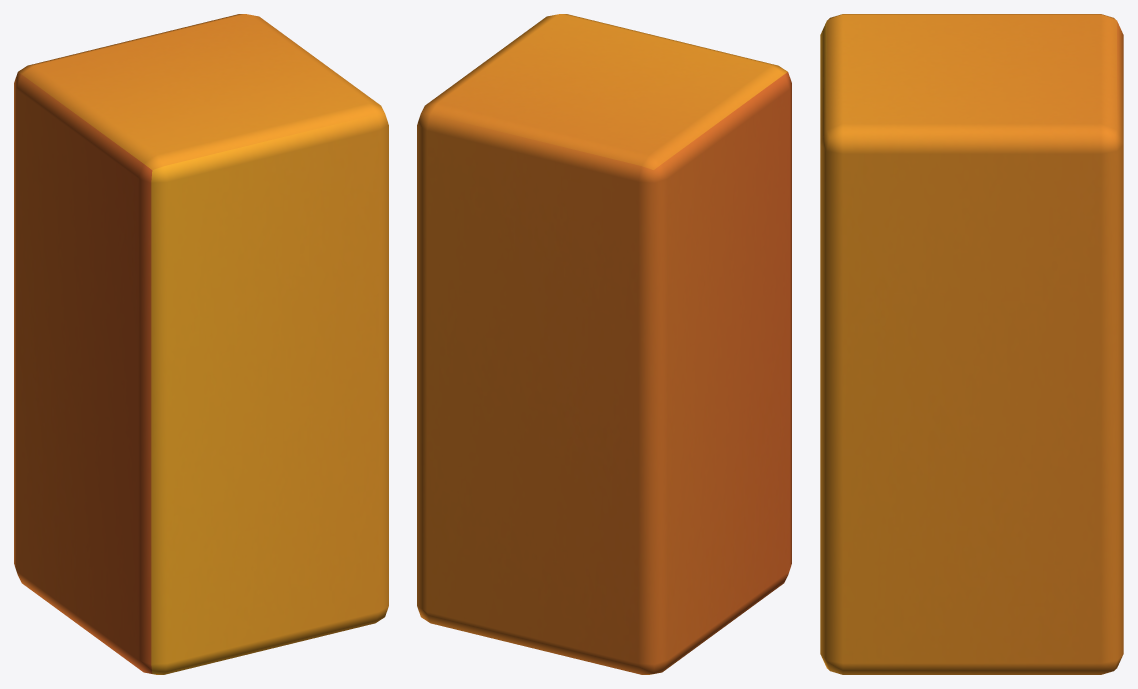
The model's file is BlockCuboidOrange.fbx.
The picture shows the model from 3 angles, left to right: view 1: azimuth 30°, elevation 25°; view 2: azimuth 150°, elevation 25°; view 3: azimuth 270°, elevation 25°; orthographic projection. The views are drawn at different scales.
Parts seen in each view (by area): view 1: Cube.008; view 2: Cube.008; view 3: Cube.008.
Part boxes in pixels (box(x1,y1,x2,y2)): Cube.008: box(14, 14, 388, 674); Cube.008: box(417, 14, 791, 674); Cube.008: box(820, 14, 1123, 674).
Bounding box in the file's own units: 200 × 400 × 200.
